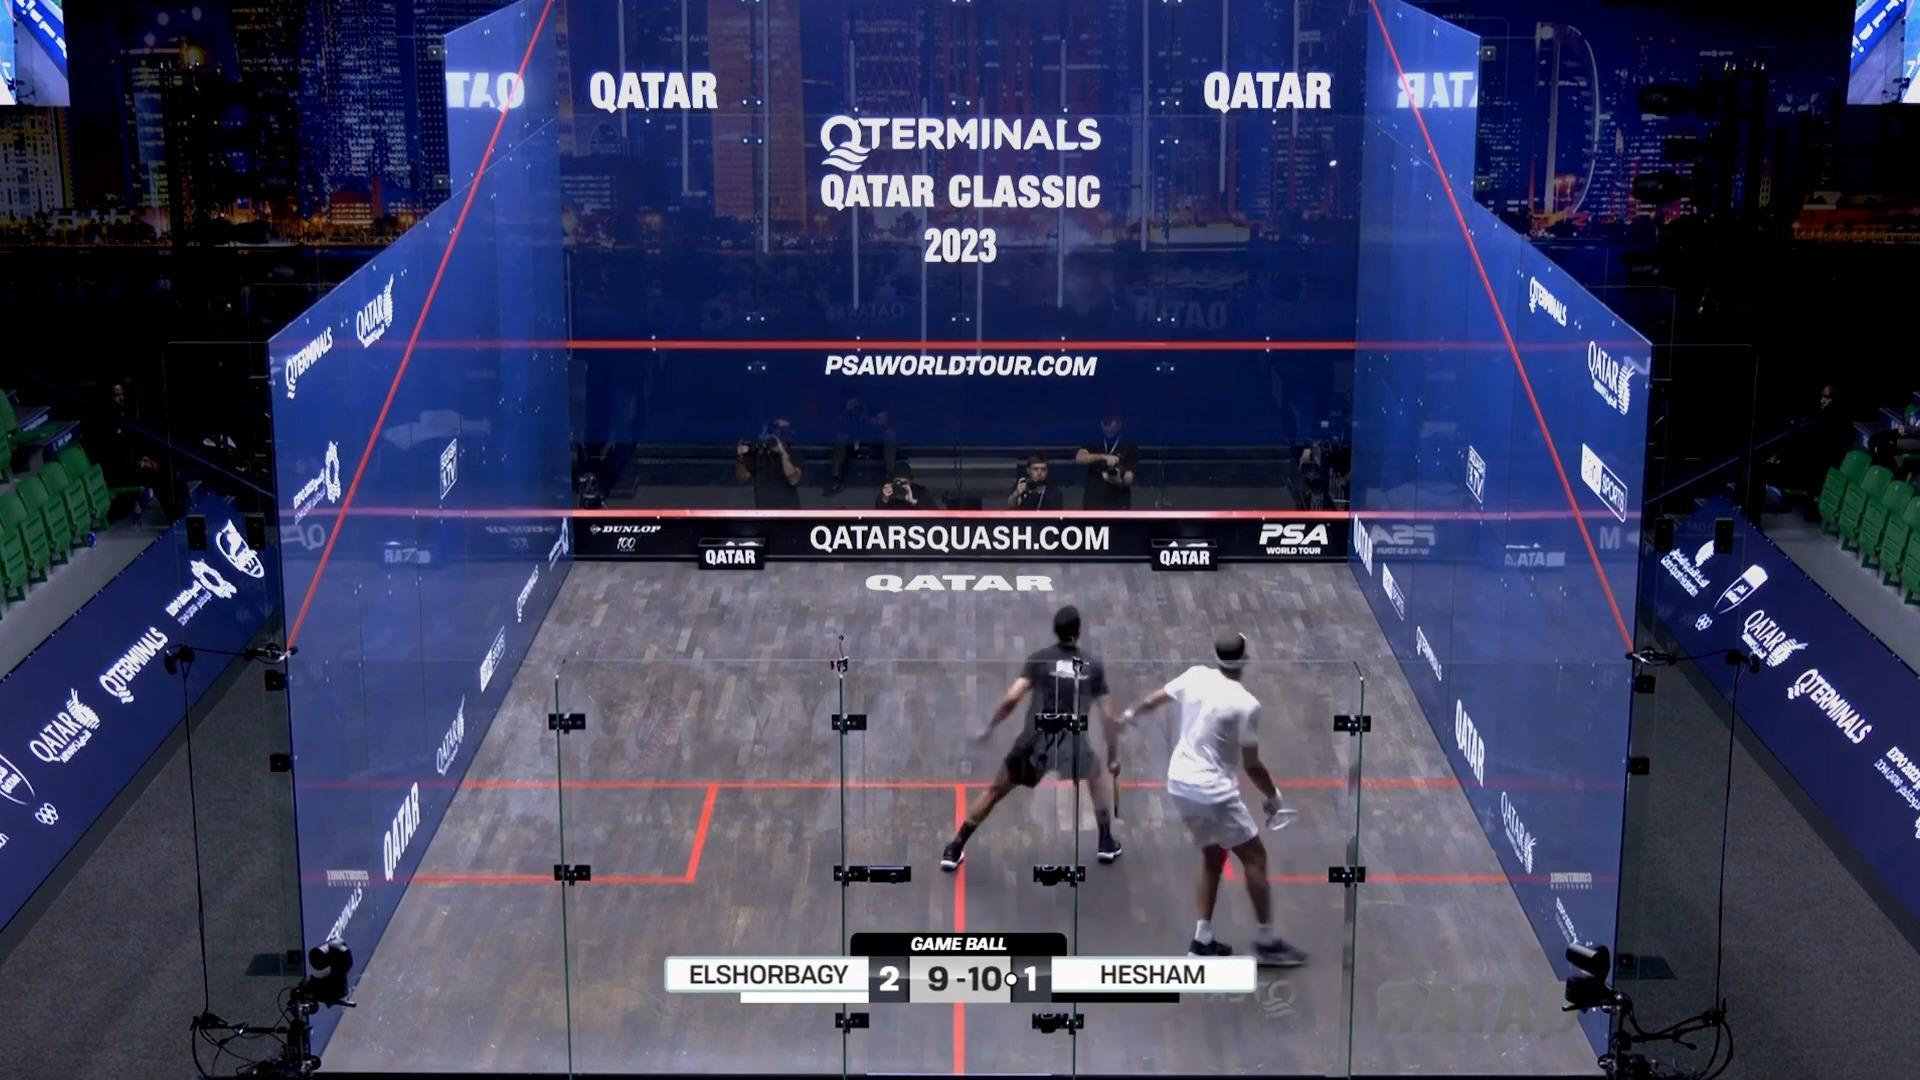Squash-Ball: (1324, 152, 1344, 175)
